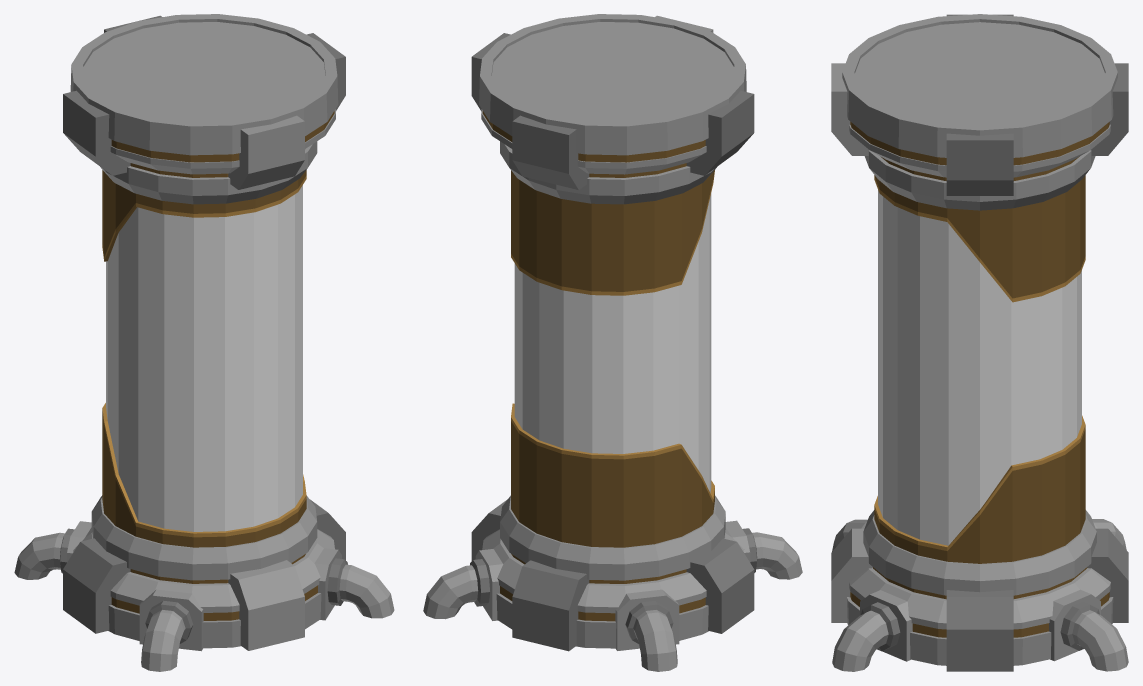
The model's file is Props_Pod.glb.
The picture shows the model from 3 angles, left to right: view 1: azimuth 30°, elevation 25°; view 2: azimuth 150°, elevation 25°; view 3: azimuth 270°, elevation 25°; orthographic projection. The views are drawn at different scales.
Parts seen in each view (by area): view 1: Props_Pod; view 2: Props_Pod; view 3: Props_Pod.
Boxes of the visible parts, <box> form: Props_Pod: <box>14,14,394,671</box>; Props_Pod: <box>423,14,802,671</box>; Props_Pod: <box>831,14,1128,671</box>.
Size of the model in its own units: 1.81 by 3.61 by 1.81.
